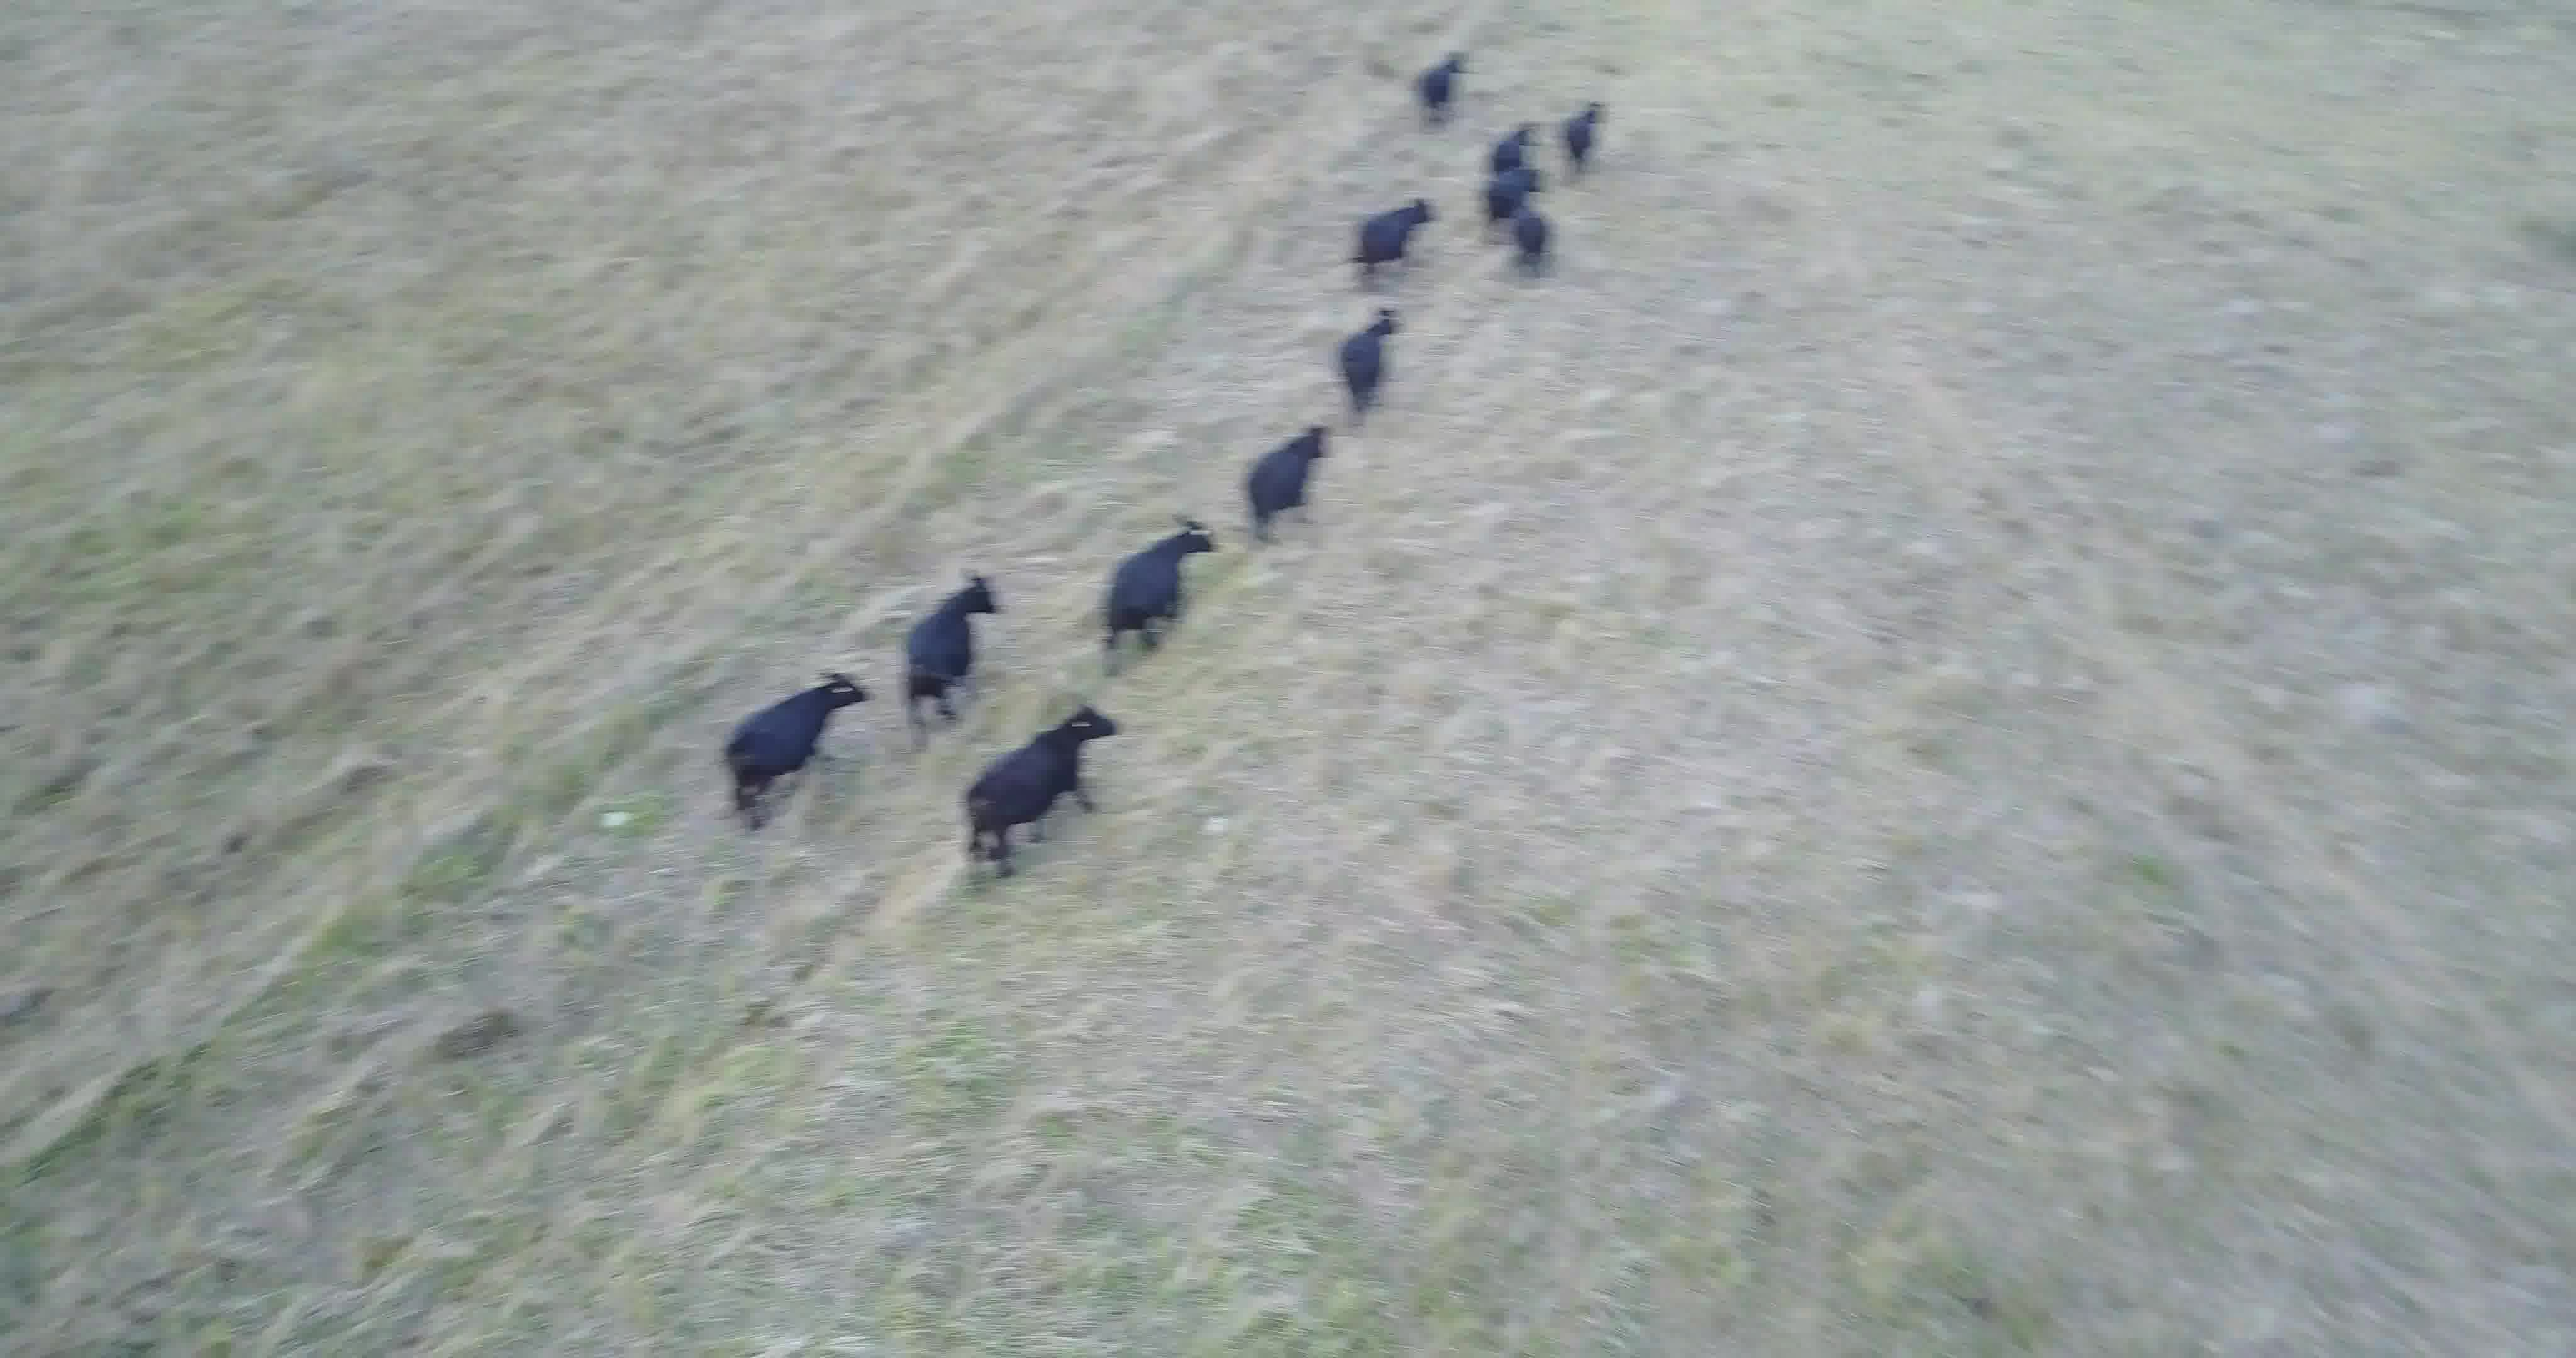cattle: (964, 702, 1119, 878), (719, 659, 872, 833), (1082, 508, 1225, 682), (896, 574, 998, 739), (1242, 421, 1334, 555), (1327, 295, 1409, 423), (1356, 196, 1436, 291), (1409, 41, 1479, 141), (1552, 95, 1622, 165), (1481, 164, 1552, 210), (1515, 204, 1557, 278), (1489, 116, 1545, 165)
